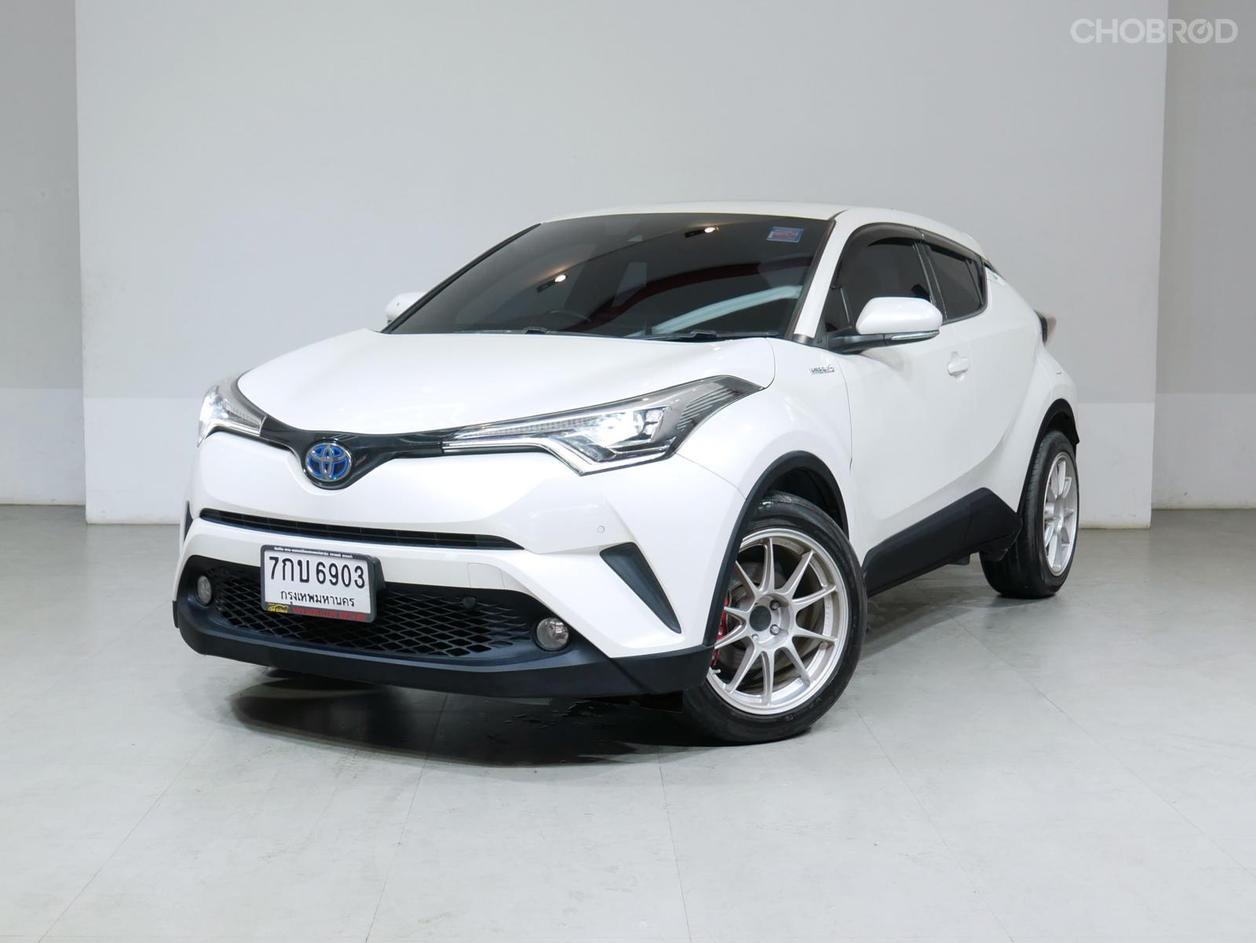license-plate: (249, 540, 389, 632)
